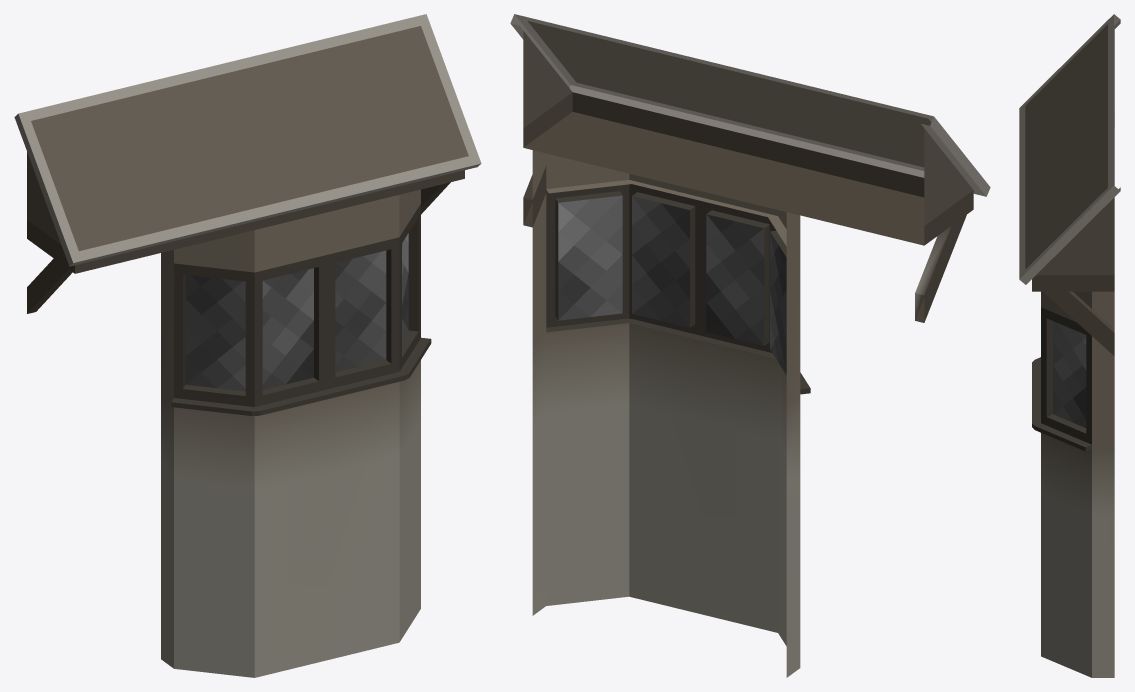
File: Front_A.fbx
3 views of the same model, side by side, from view 1: azimuth 30°, elevation 25°; view 2: azimuth 150°, elevation 25°; view 3: azimuth 270°, elevation 25° (orthographic). The views are drawn at different scales.
Visible parts, largest first — view 1: Front_A; view 2: Front_A; view 3: Front_A.
Boxes of the visible parts, box(x1,y1,x2,y2) form: Front_A: box(14, 14, 481, 677); Front_A: box(510, 14, 990, 677); Front_A: box(1019, 14, 1120, 677).
Bounding box in the file's own units: 449 × 610 × 112.
